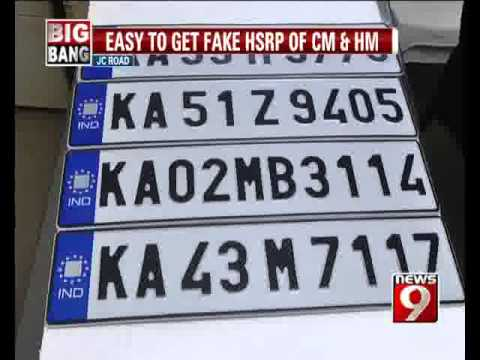inlp: (34, 210, 471, 330), (45, 134, 443, 234), (63, 79, 428, 150)
